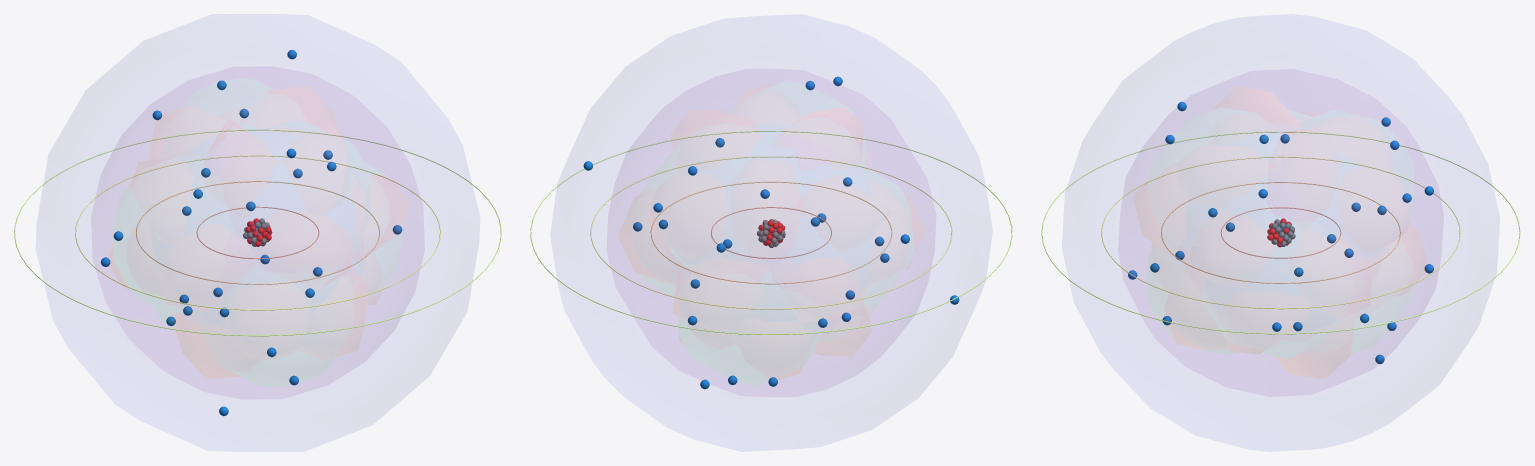
3 renders of one model, left to right at view 1: azimuth 30°, elevation 25°; view 2: azimuth 150°, elevation 25°; view 3: azimuth 270°, elevation 25°, orthographic.
Parts seen in each view (by area): view 1: Nivel_n4, Nivel_n3, Nivel_n2; view 2: Nivel_n4, Nivel_n3, Nivel_n2; view 3: Nivel_n4, Nivel_n3, Nivel_n2.
Boxes of the visible parts, x1,y1,x2,y2 form: Nivel_n4: [14, 129, 501, 336]; Nivel_n3: [75, 155, 440, 310]; Nivel_n2: [136, 181, 379, 284]; Nivel_n4: [530, 131, 1012, 334]; Nivel_n3: [590, 156, 952, 309]; Nivel_n2: [650, 181, 892, 284]; Nivel_n4: [1041, 131, 1520, 334]; Nivel_n3: [1101, 156, 1460, 309]; Nivel_n2: [1161, 182, 1400, 283].
Bounding box in the file's own units: 1.2 × 1.1 × 1.2.
